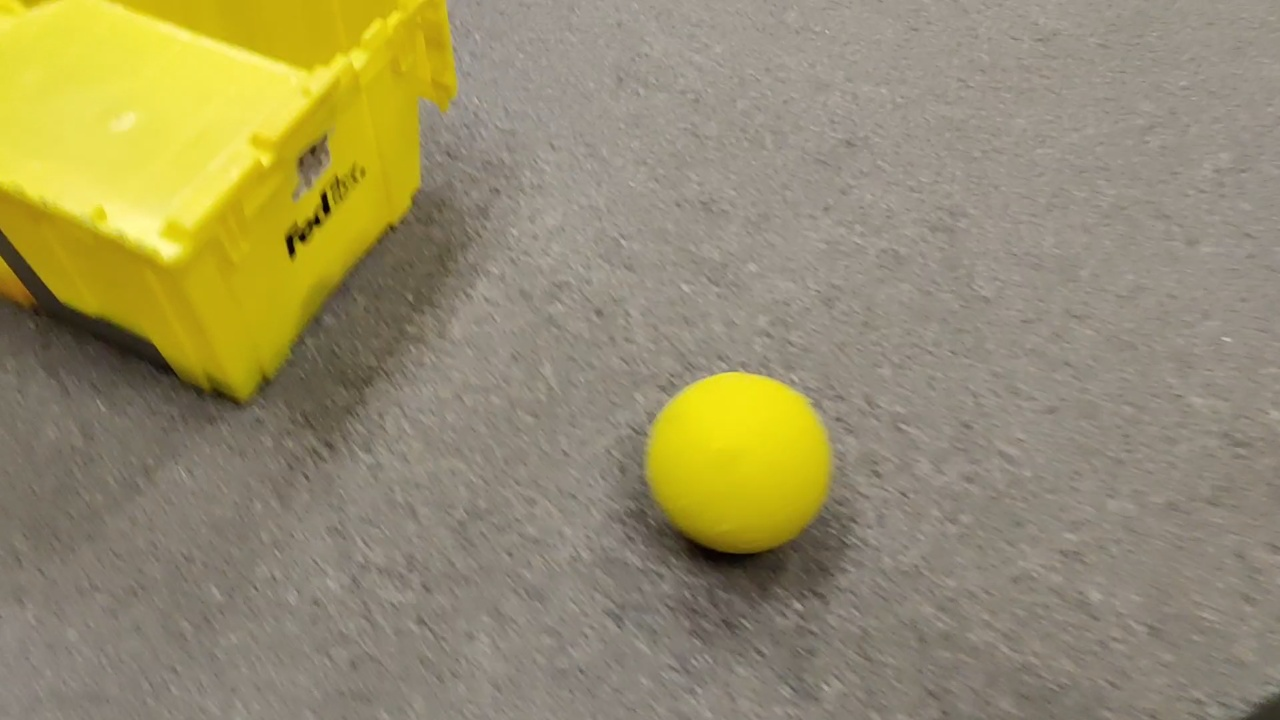Ball: (649, 373, 833, 550)
